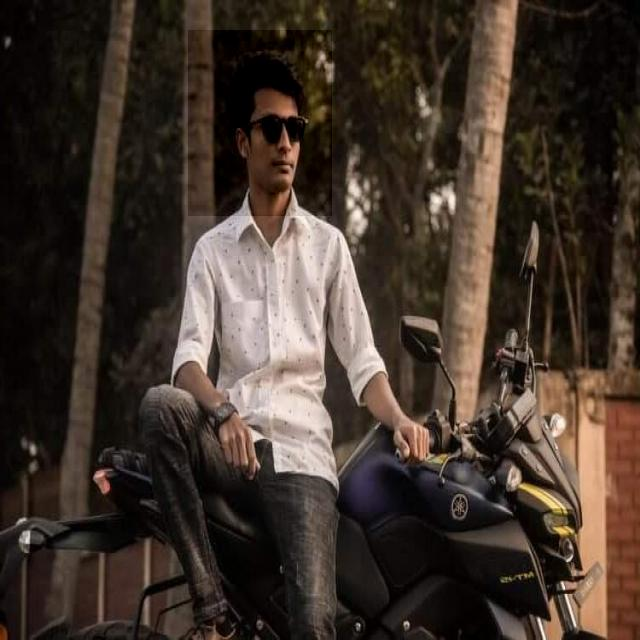No_Helmet: (188, 30, 332, 216)
